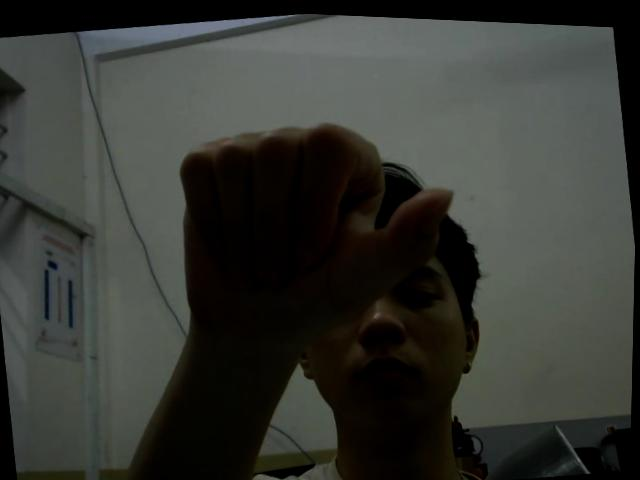A: (165, 102, 468, 360)
